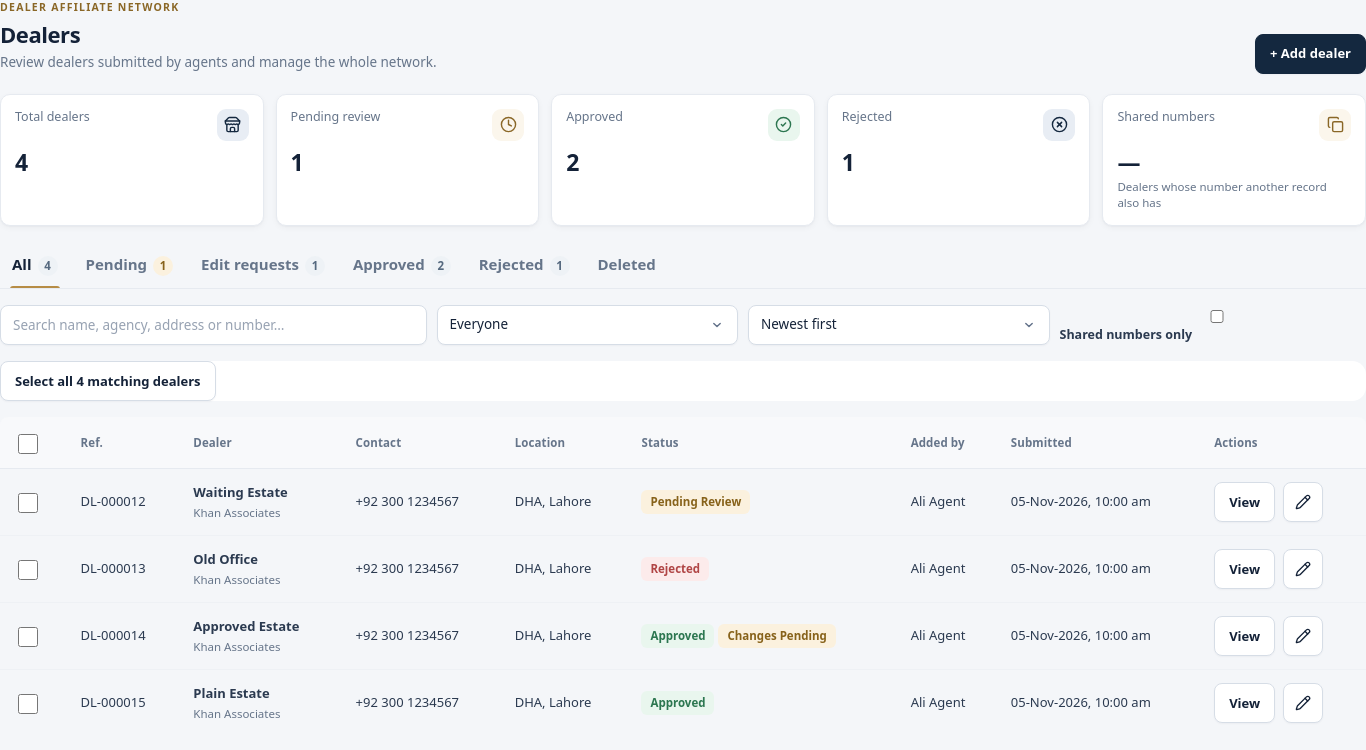
it: an administrator's review of an edit request › marks a new dealer request as such
Click the button with aria-label "View Waiting Estate" at [1245, 502], box [1214,482,1275,522]
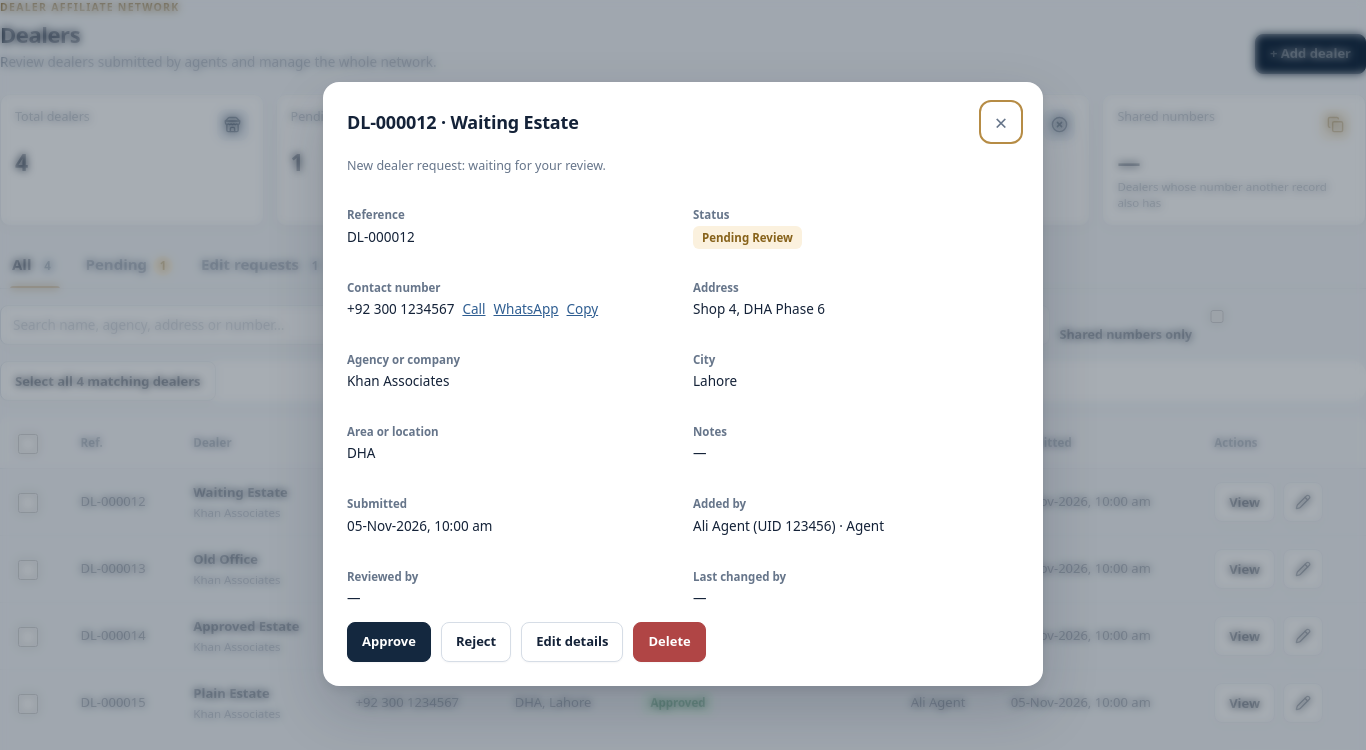
expect the text "New dealer request: waiting for your review." is shown: met, box [347,157,606,174]
